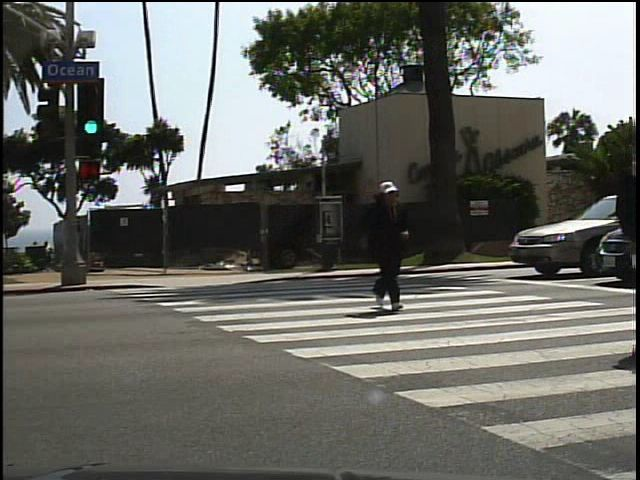person: (346, 170, 415, 325)
